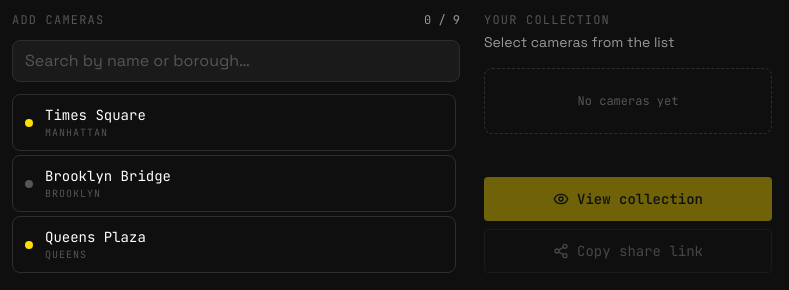
Test: CollectionBuilder › copies a share link and shows feedback
The width and height of the screenshot is (789, 290).
Click the button "Times Square Manhattan". click: (95, 115)
box: x1=12 y1=94 x2=456 y2=151
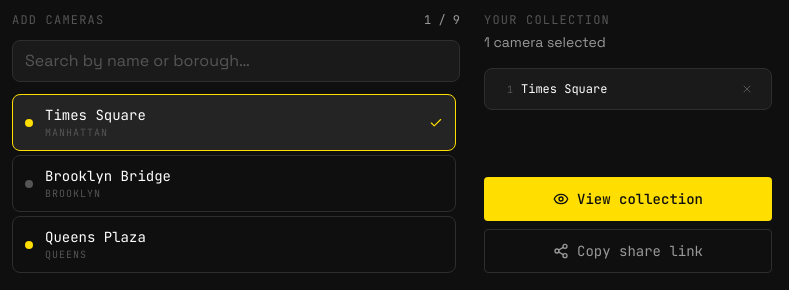
Click the button "Copy share link". click: (628, 251)
box: x1=484 y1=229 x2=772 y2=273
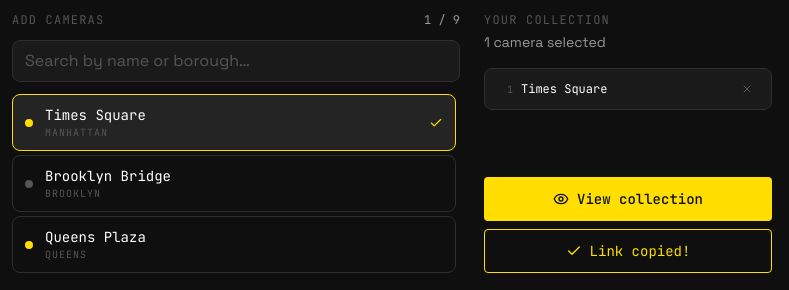
Expected: the button "Link copied!" is shown, x1=484 y1=229 x2=772 y2=273
